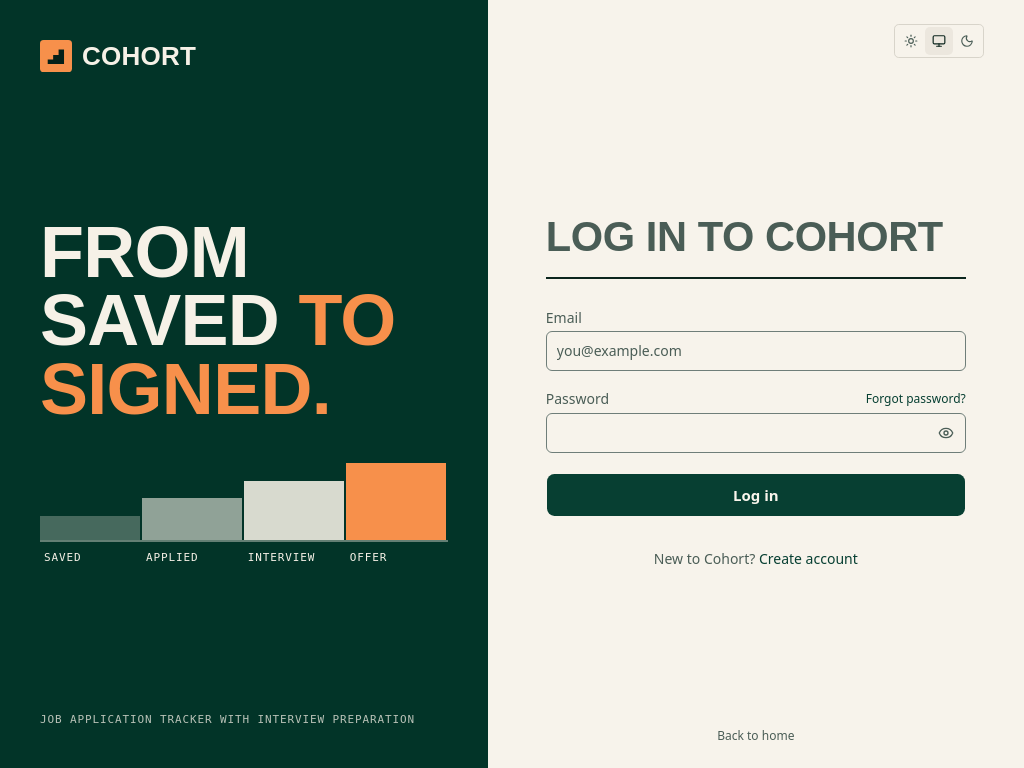
Test case: auth pages › toggles password visibility without losing the typed value
Type "secret-value" into the password field labelled "Password" at coordinates (756, 433), box [546,413,966,453]
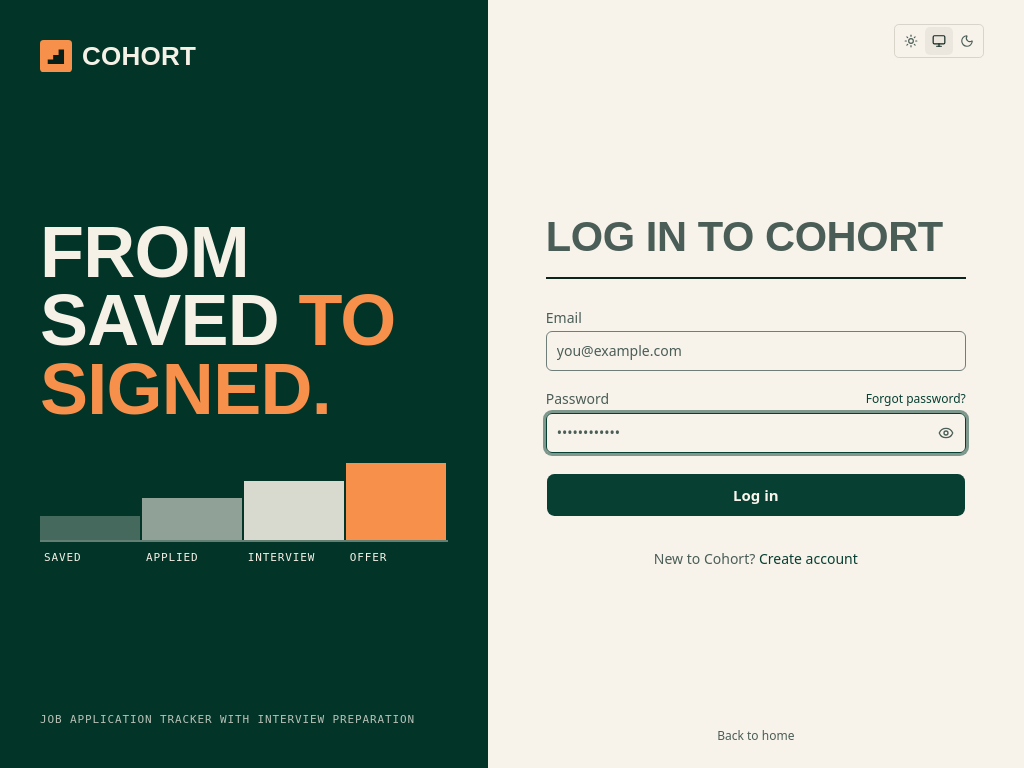
Click the button named "Show password" at coordinates (946, 433), box [926,413,966,453]
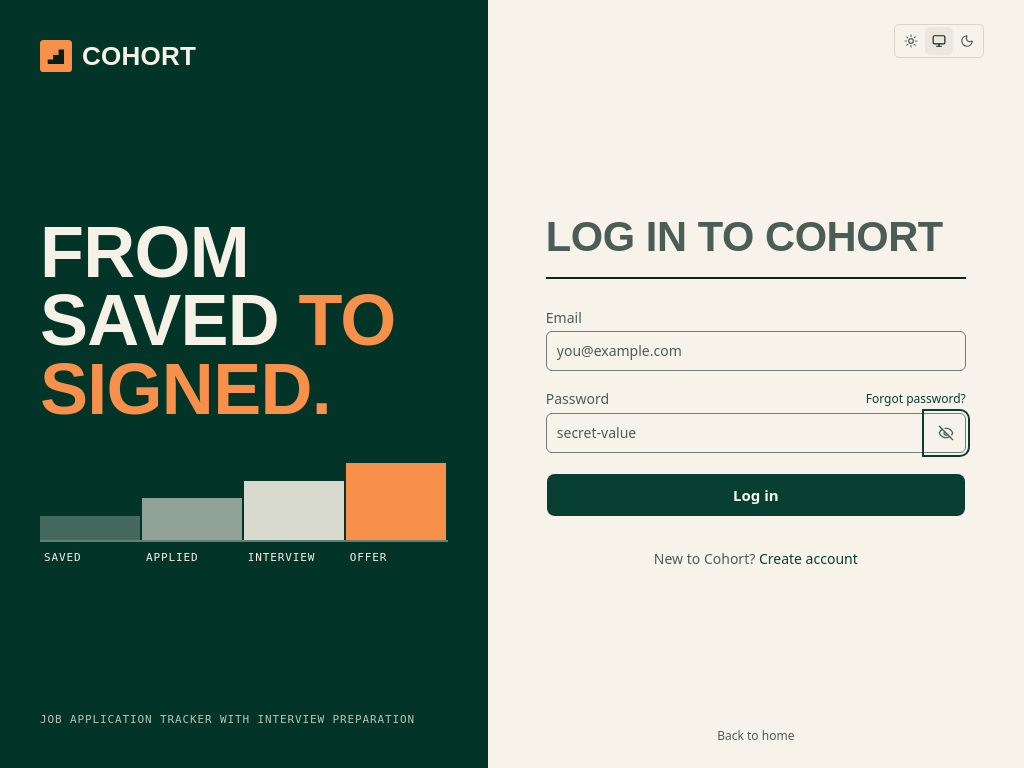
Expected: the field labelled "Password" shows its text, [546,413,966,453]
Click the button named "Hide password" at coordinates (946, 433), box [926,413,966,453]
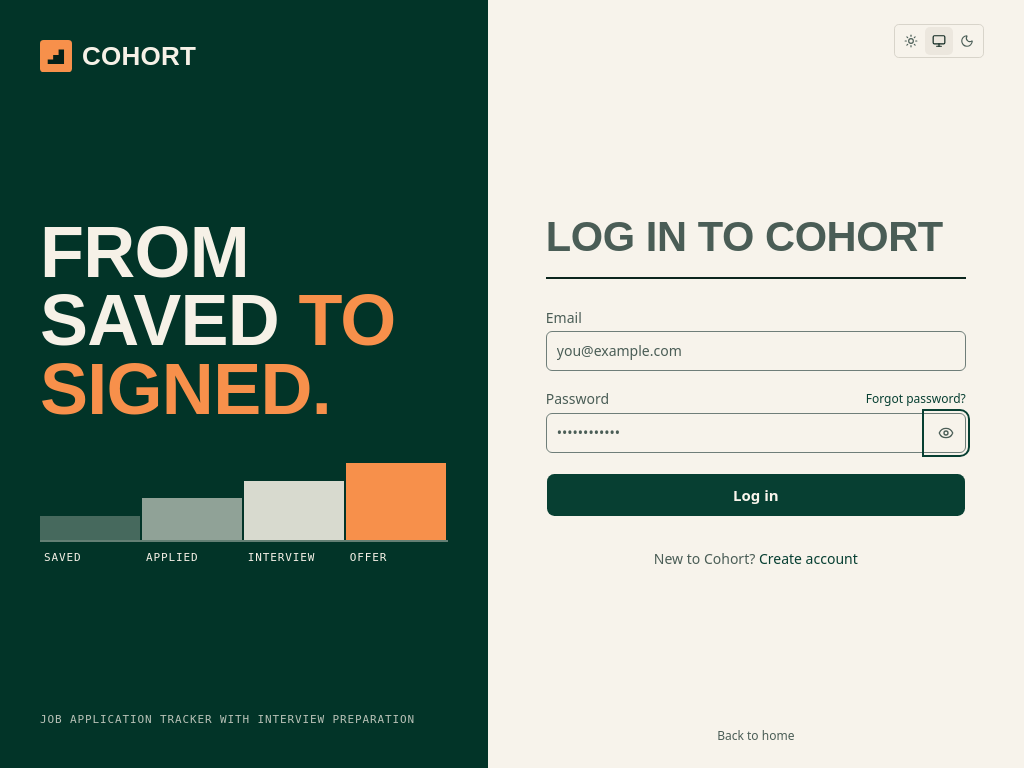
Expected: the password field labelled "Password" hides its text, [546,413,966,453]
